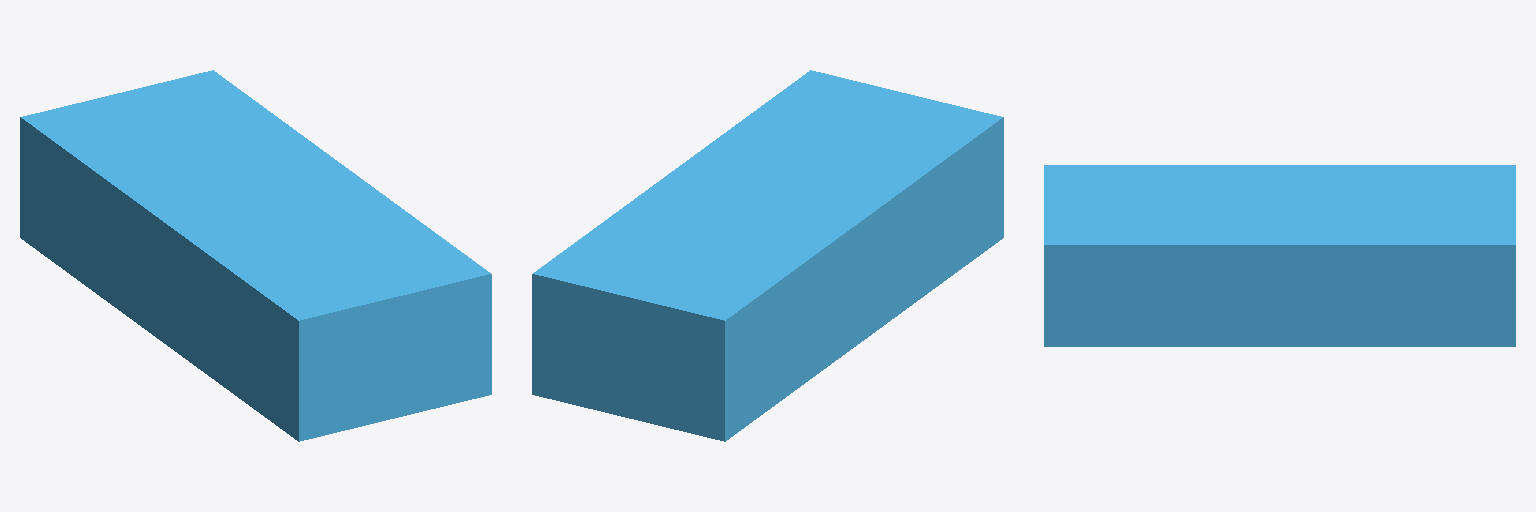
robot.urdf — eraser:
<?xml version="1.0" ?>
<!-- Rigid eraser for the Drake retargeter. Same inertial + box collision as eraser.xml;
     the visual is the same box (the original textured mesh is ~110 MB and not shipped). -->
<robot name="eraser">
   <material name="obj_color">
      <color rgba="1.0 0.423529411765 0.0392156862745 1.0"/>
   </material>
   <material name="obj_bottom_color">
      <color rgba="0.4 0.8 1.0 1.0"/>
   </material>
   <link name="bottom">
      <inertial>
         <origin rpy="0 0 0" xyz="0.0 0.0 0.0"/>
         <mass value="0.0126"/>
         <inertia ixx="1.718e-05" ixy="0.0" ixz="0.0" iyy="3.390e-06" iyz="0.0" izz="1.882e-05"/>
      </inertial>
      <visual>
         <origin rpy="0 0 0" xyz="0 0 0"/>
         <geometry>
            <box size="0.05 0.125 0.03"/>
         </geometry>
         <material name="obj_bottom_color"/>
      </visual>
      <collision>
         <origin rpy="0 0 0" xyz="0 0 0"/>
         <geometry>
            <box size="0.05 0.125 0.03"/>
         </geometry>
      </collision>
   </link>
</robot>

--- What the picture shows (computed from the rendered views, not written in the file) ---
The picture shows the robot from 3 angles, left to right: view 1: azimuth 30°, elevation 25°; view 2: azimuth 150°, elevation 25°; view 3: azimuth 270°, elevation 25°; orthographic projection.
Model eraser with 1 links and 0 joints (none), rooted at bottom, posed every joint at zero.
Visible links, largest first — view 1: bottom; view 2: bottom; view 3: bottom.
Link boxes in pixels (left/top/right/bottom): bottom: left=20, top=70, right=491, bottom=441; bottom: left=532, top=70, right=1003, bottom=441; bottom: left=1044, top=165, right=1515, bottom=346.
Size in the robot's own frame: 0.05 by 0.125 by 0.03 metres.
Geometry: primitives only (box / cylinder / sphere), no mesh files.
